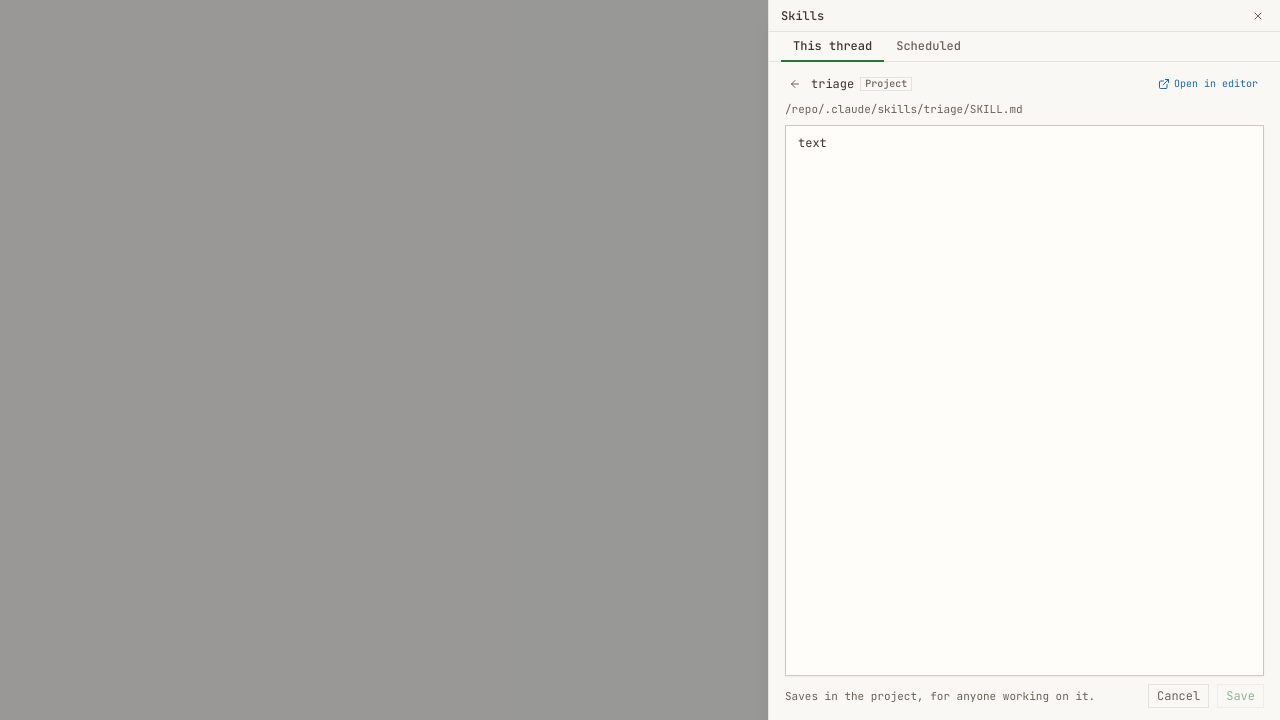
Test: SkillsPanel › with a skill open in the editor › asks before Escape drops unsaved changes; a second Escape keeps editing
The width and height of the screenshot is (1280, 720).
Replace the text in the text box named "SKILL.md for triage" with "changed" at (1024, 400), box [785,125,1264,676]
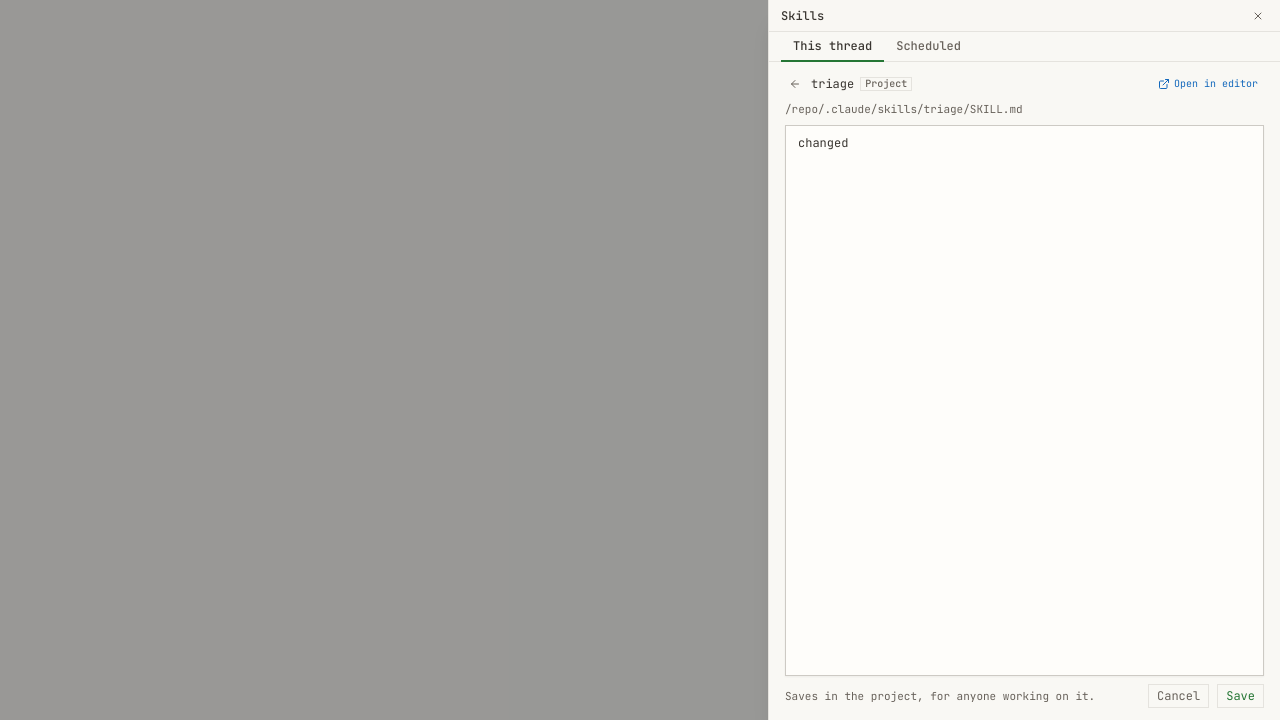
Press Escape
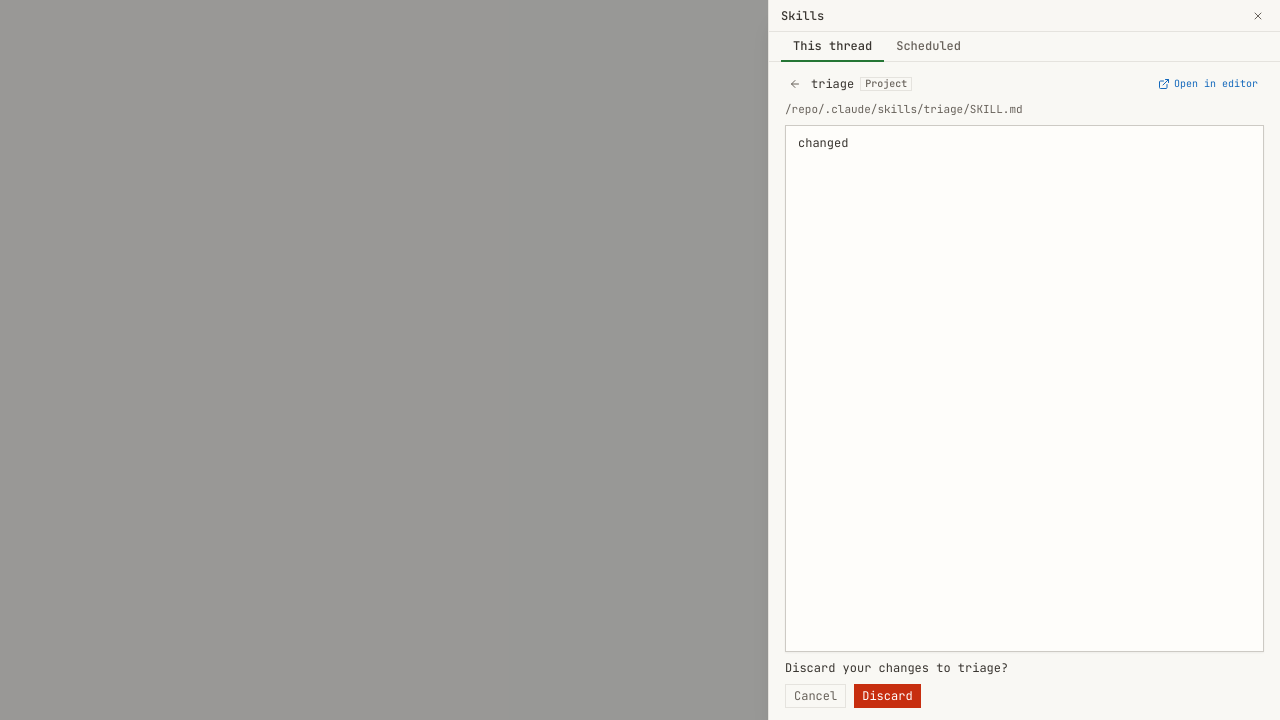
Result: the text "Discard your changes to triage?" is shown at [785,660,1008,676]
Press Escape
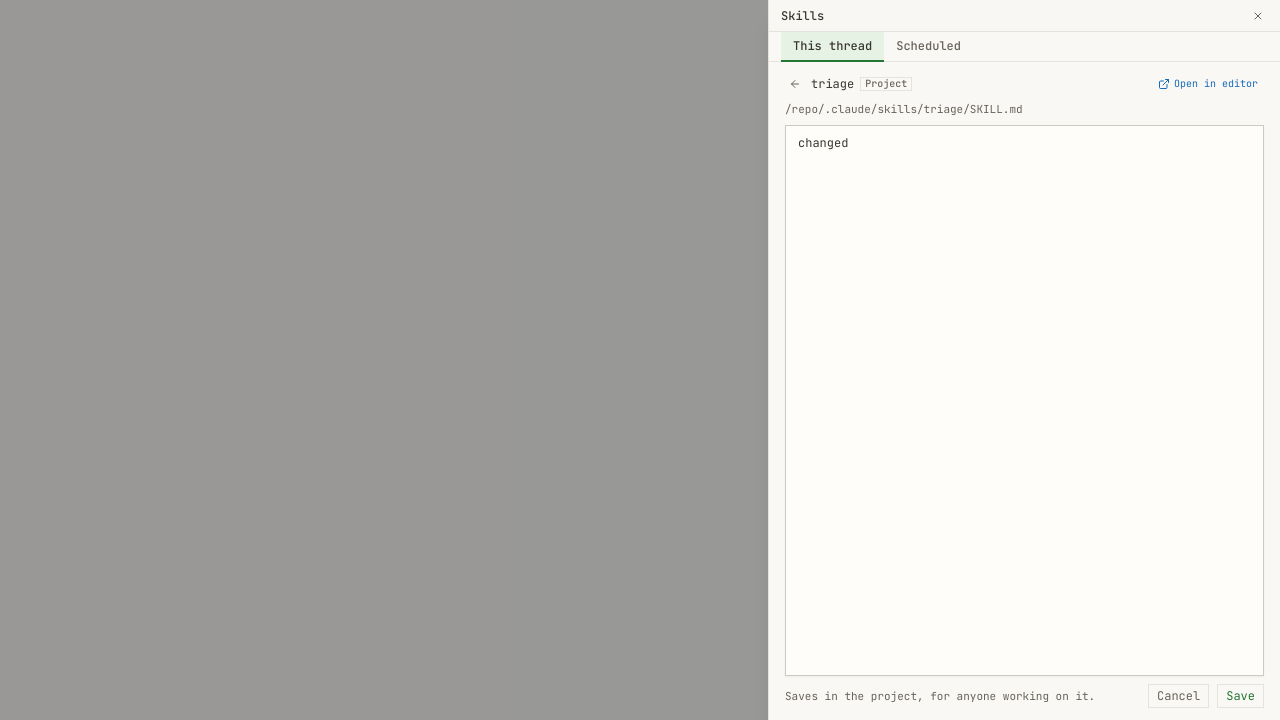
Result: the text "Discard your changes to triage?" is gone
